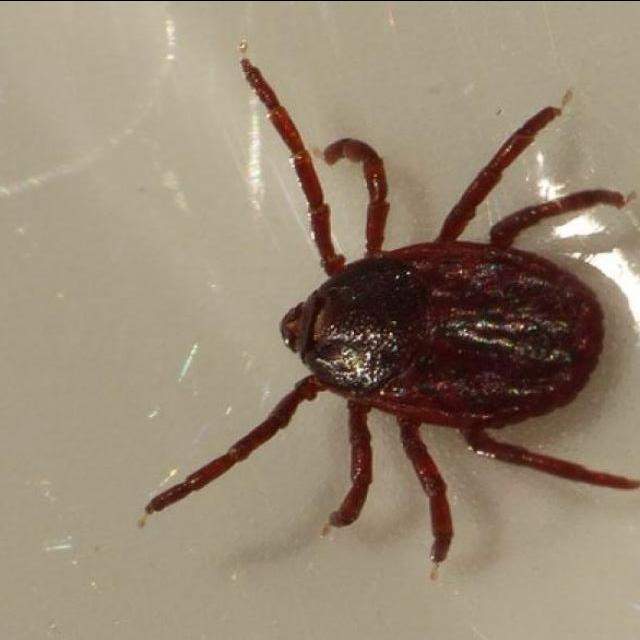Rhipicephalus Sanguineus-F: (147, 54, 640, 569)
